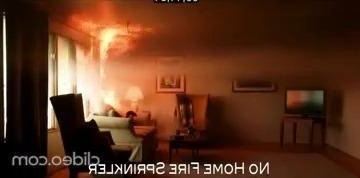fire: (64, 3, 154, 111)
